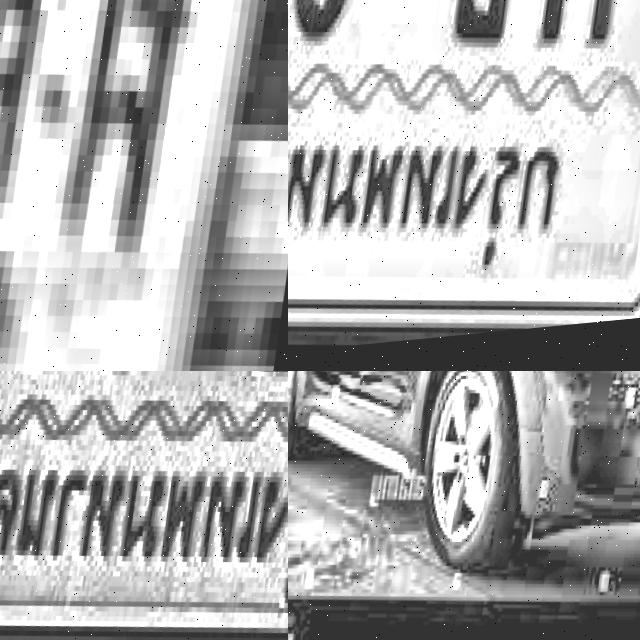license-plate: (288, 0, 640, 371), (0, 0, 288, 371), (0, 371, 288, 640)
